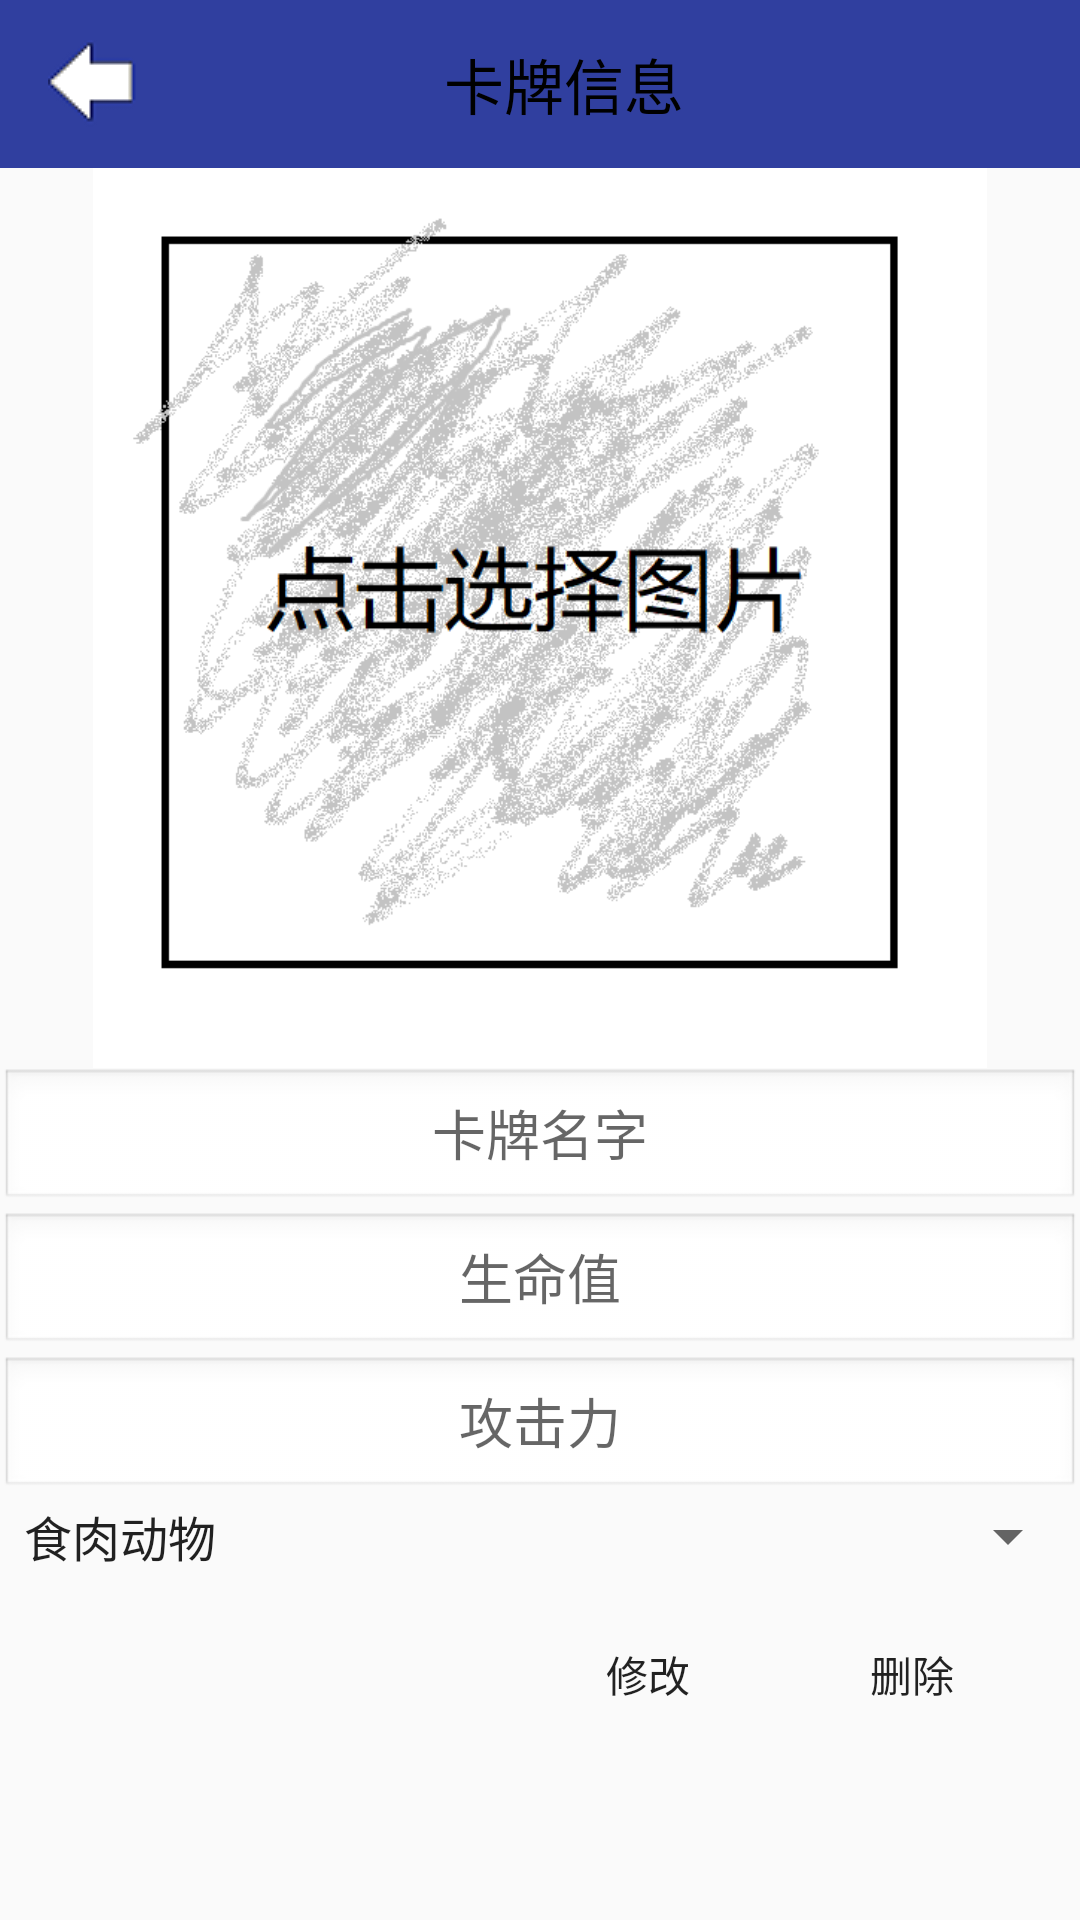

Named icons in this screenshot (1080x1920) and their centers, [x,y]:
返回: [91,82]
